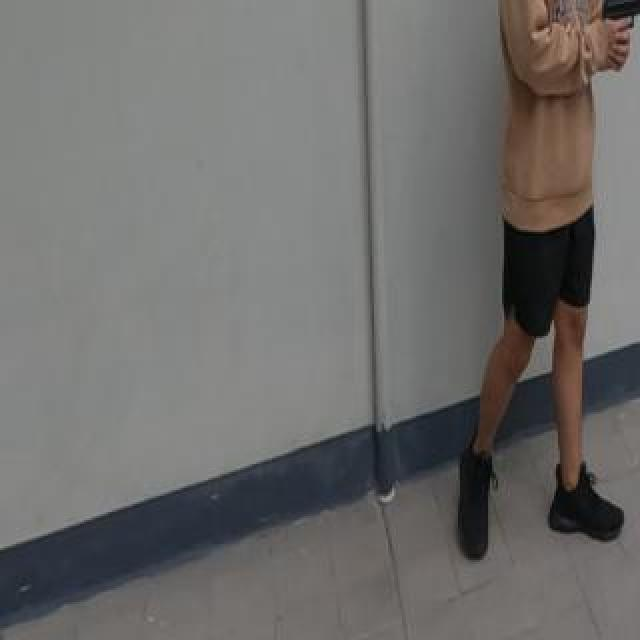Guns: (594, 0, 640, 34)
